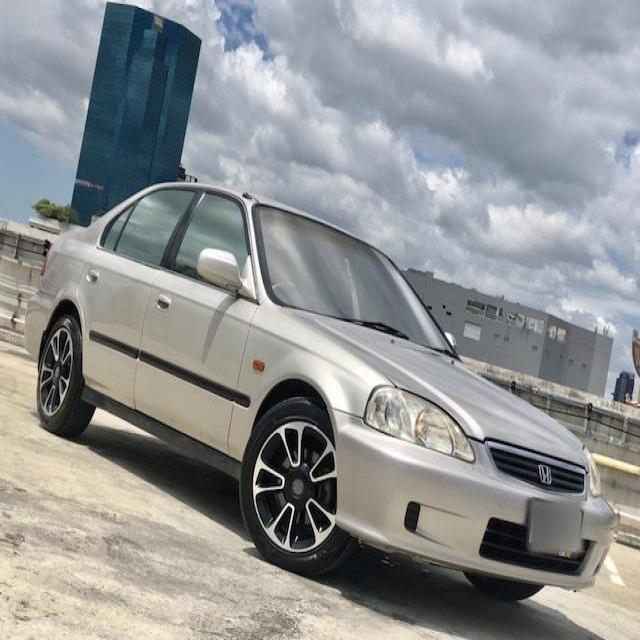back_right_door: (76, 186, 206, 410)
front_bumper: (327, 410, 624, 590)
front_glass: (255, 205, 460, 359)
front_left_light: (588, 446, 608, 498)
front_right_door: (134, 186, 258, 455)
front_right_light: (363, 383, 474, 464)
hood: (284, 308, 591, 472)
right_mirror: (197, 250, 256, 301)
wheel: (36, 316, 355, 575)
